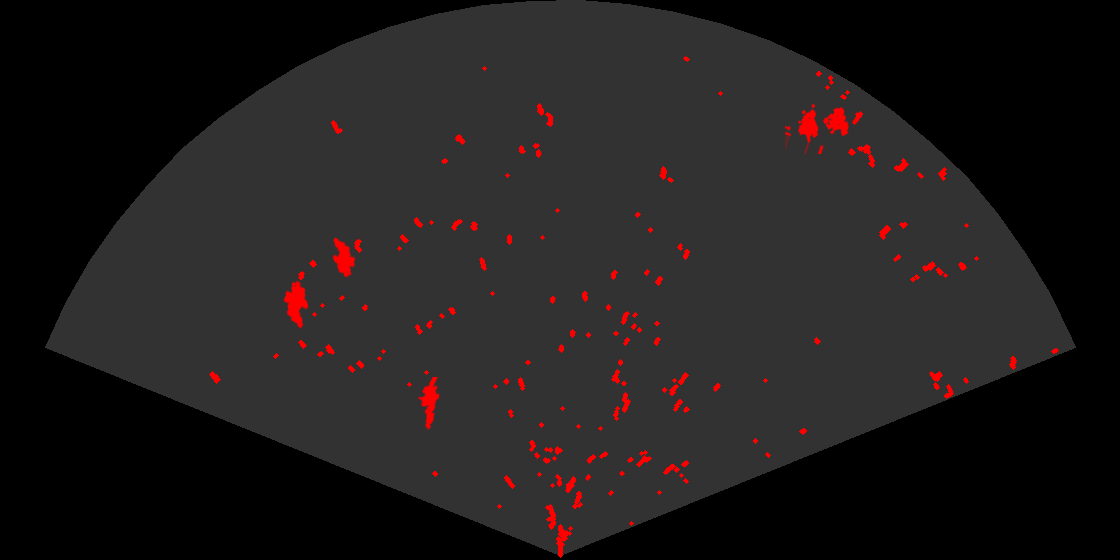AUV: (282, 279, 310, 330), (331, 236, 357, 279)
cage: (785, 102, 850, 154)
frogman: (417, 377, 441, 431)
